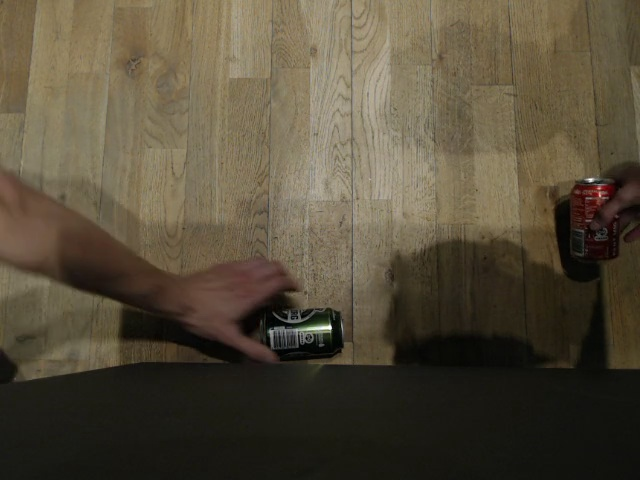beer: (258, 307, 343, 360)
cola: (569, 176, 620, 258)
